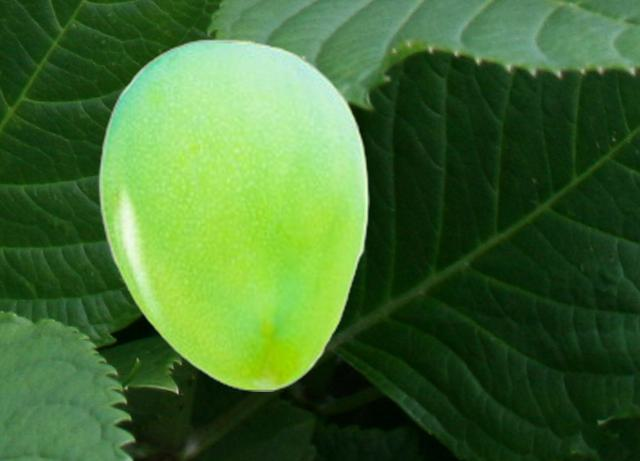green_mango: (97, 38, 368, 390)
